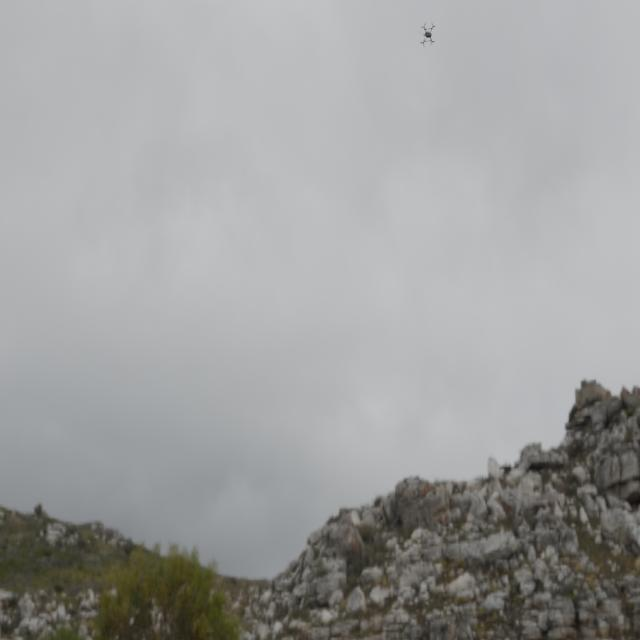drone: (419, 22, 436, 47)
